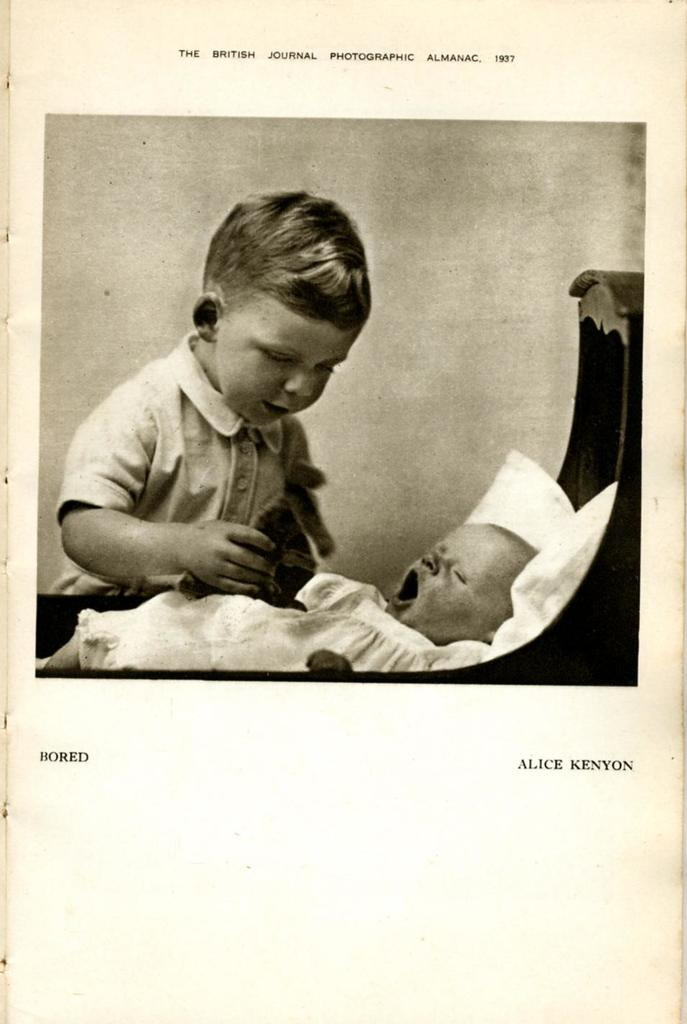Human-face: (214, 311, 353, 427), (385, 521, 509, 641)
